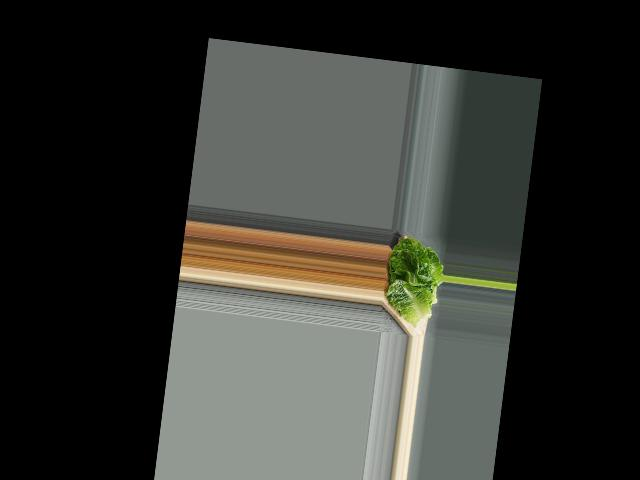lettuce: (379, 232, 447, 326)
